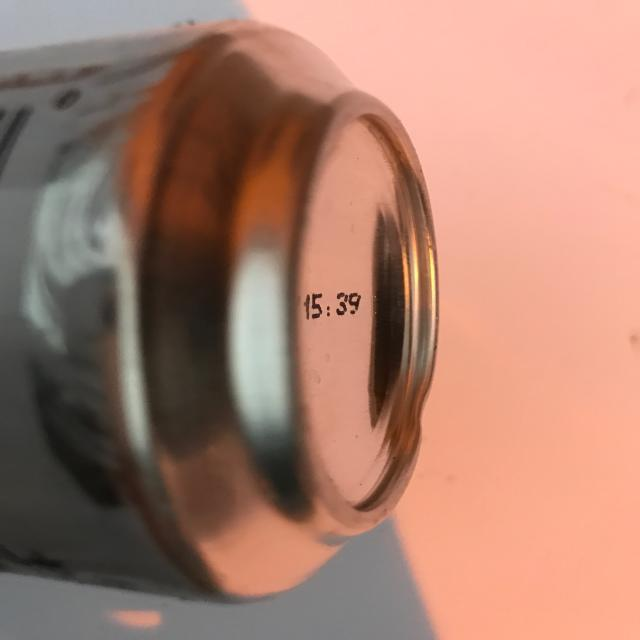metal: (1, 21, 444, 604)
